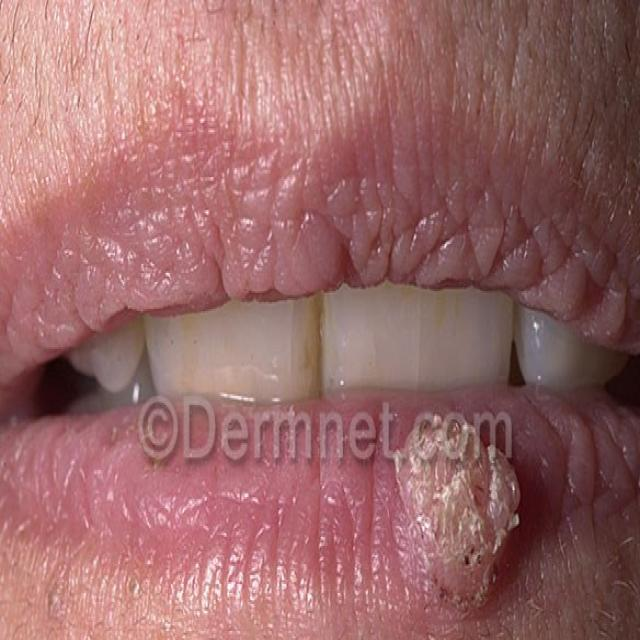Warts: (401, 400, 526, 628)
